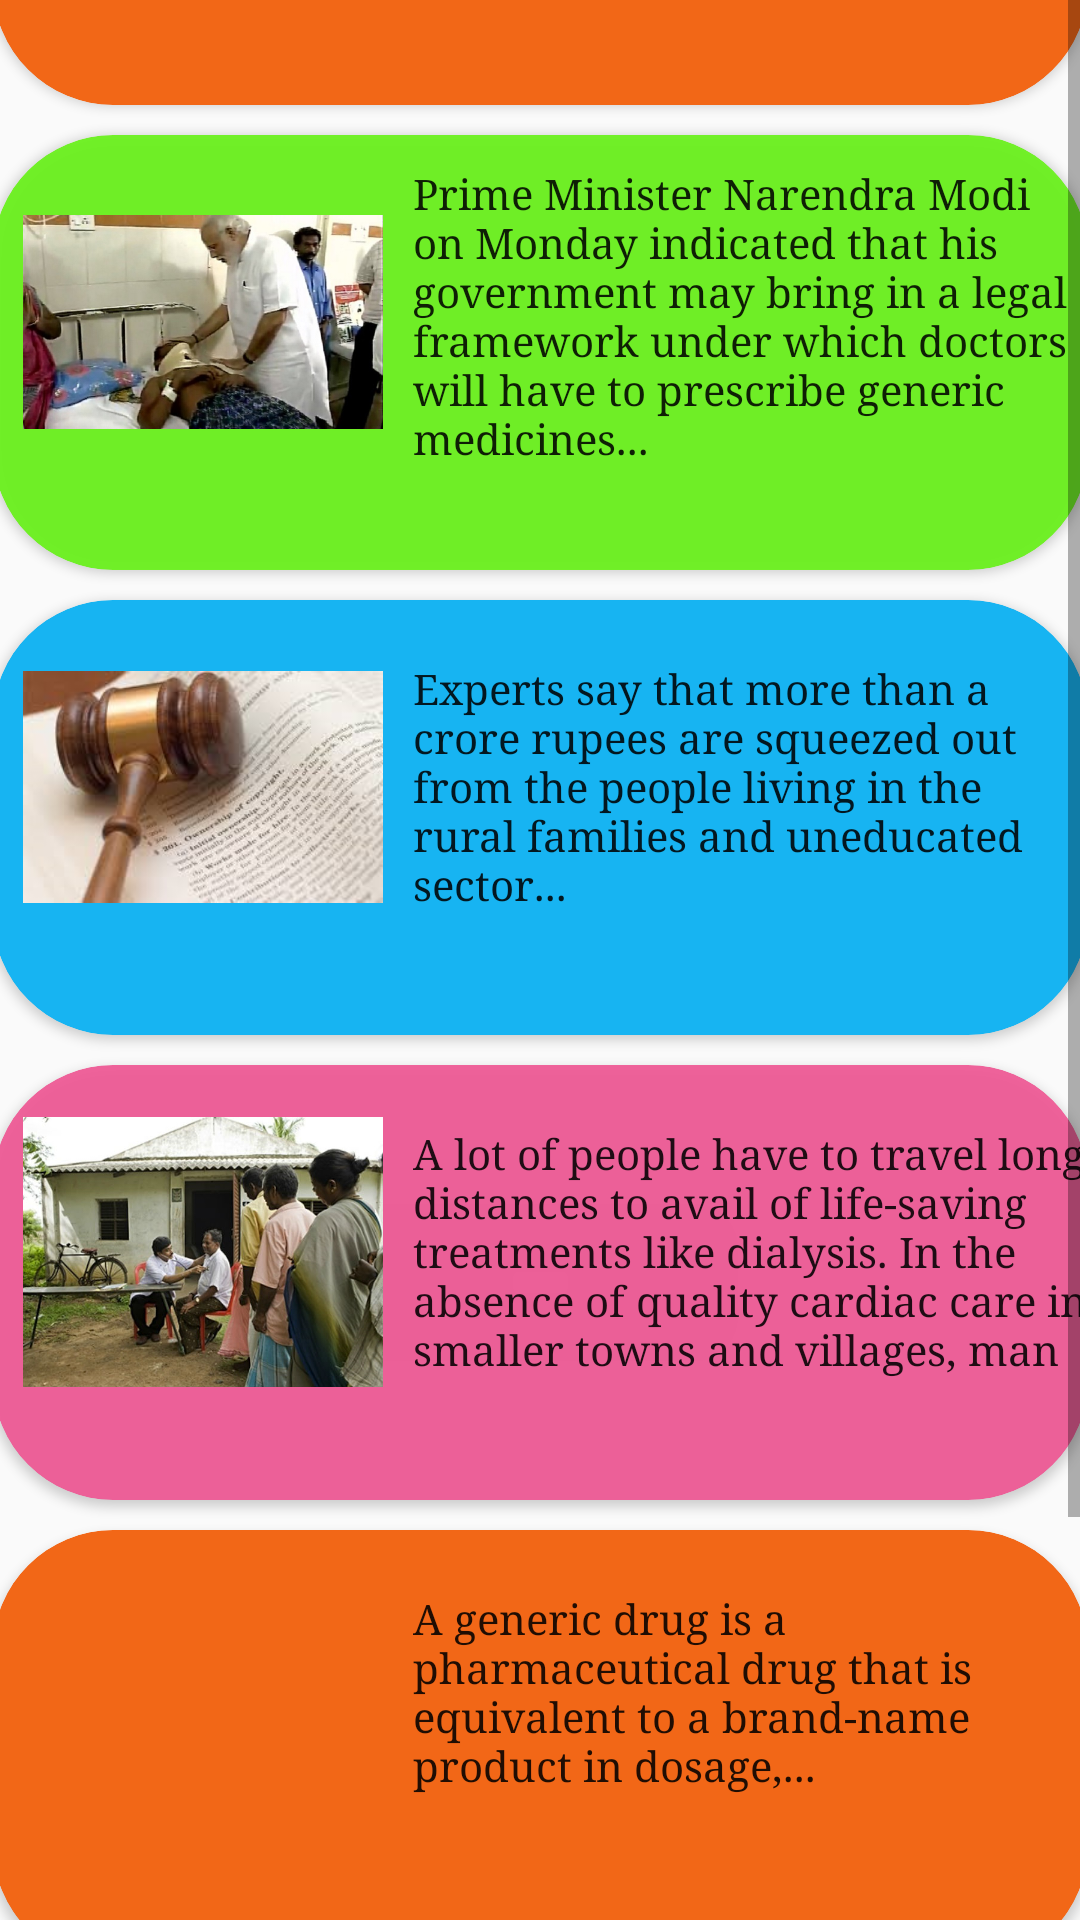

Where to tap for icons on this 1080 x 1920 app screen, as point (x, y):
law: point (203, 787)
ruralareas: point (203, 1252)
